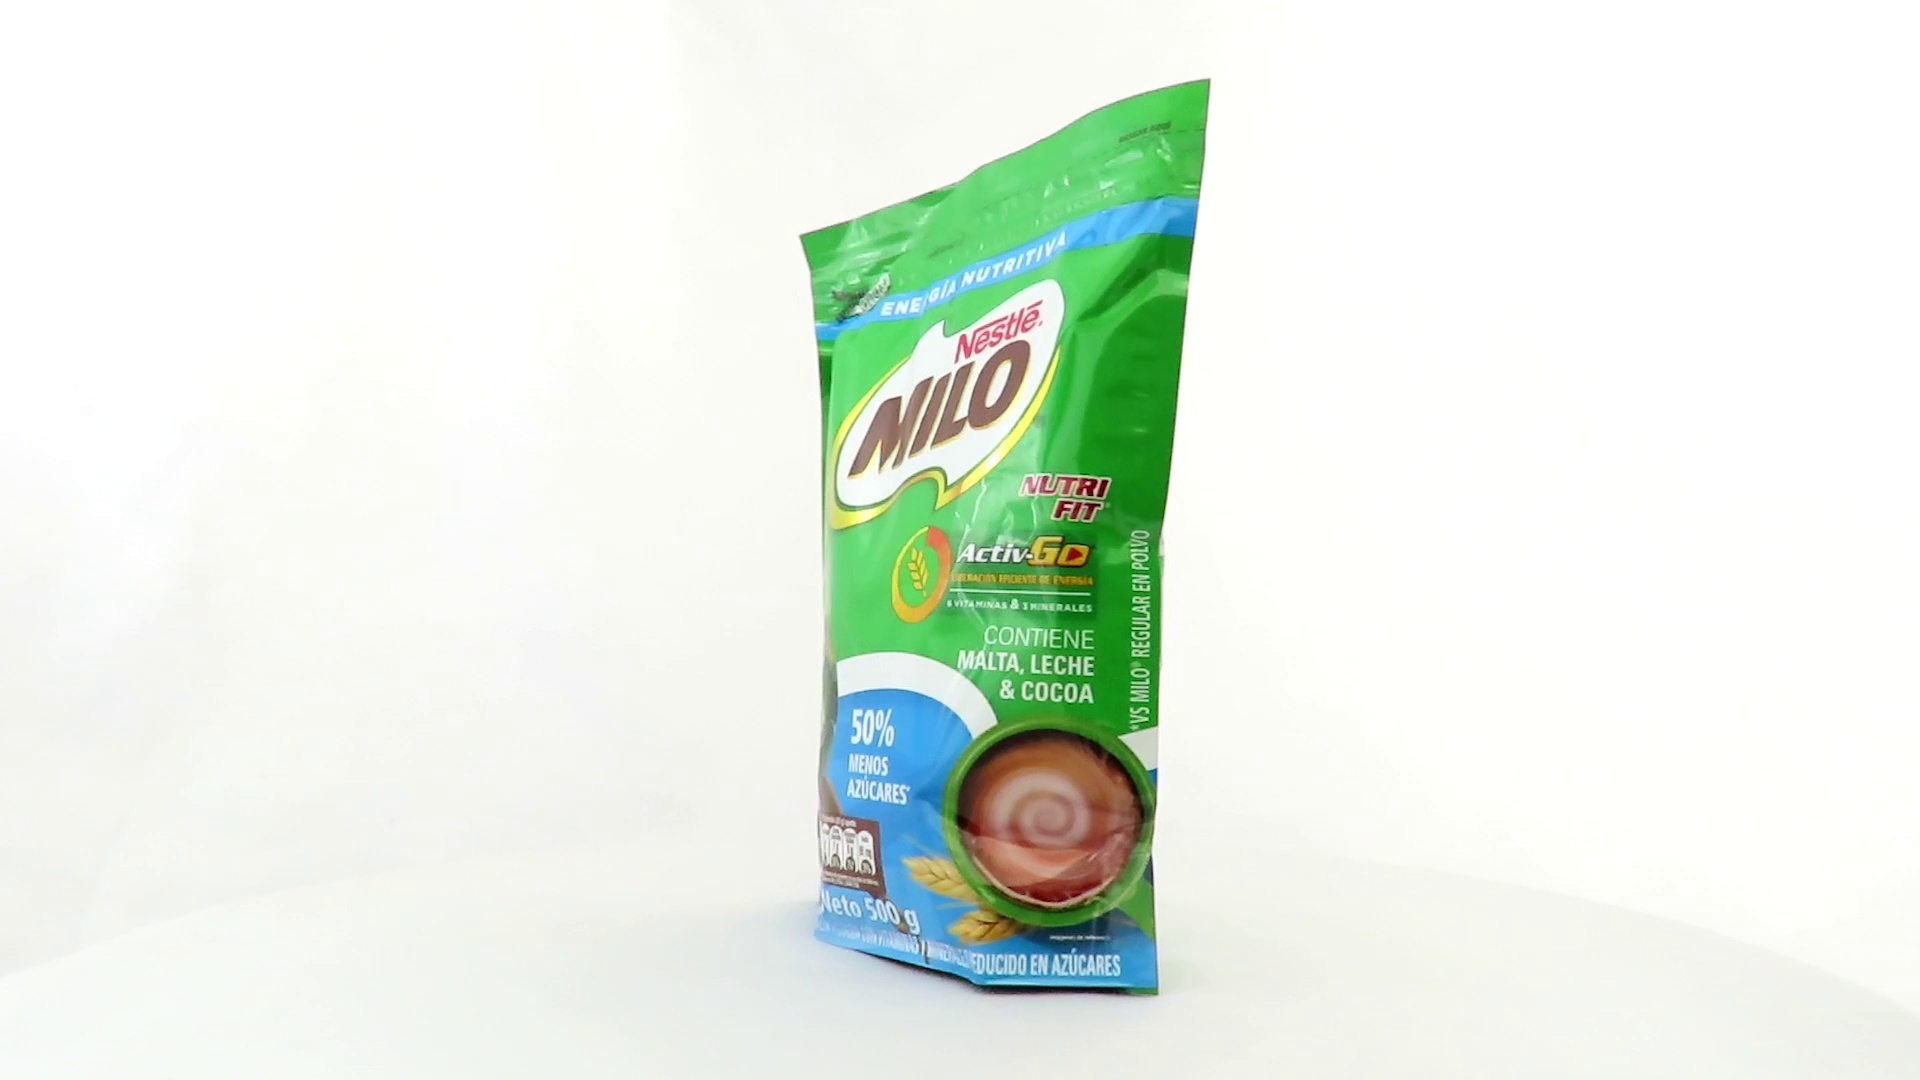COL0170205DYP50000: (794, 73, 1217, 1004)
